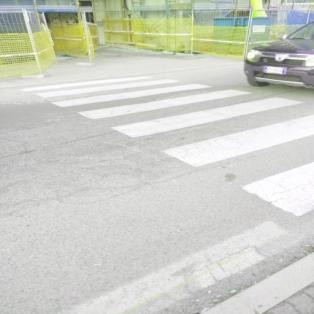Paso de Cebra: (70, 86, 314, 140)
